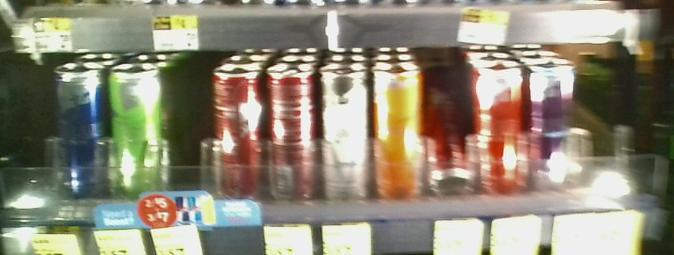bottle: (51, 58, 109, 210), (112, 57, 165, 215), (204, 61, 262, 197), (317, 58, 370, 202), (266, 61, 316, 209), (372, 57, 423, 200), (476, 66, 527, 195), (529, 61, 577, 192), (432, 133, 472, 200)
